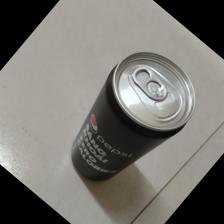Pepsi: (49, 50, 194, 183)
